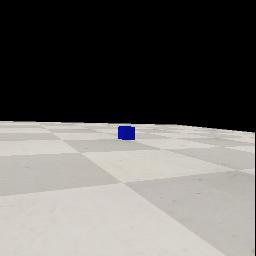box: (118, 126, 135, 140)
